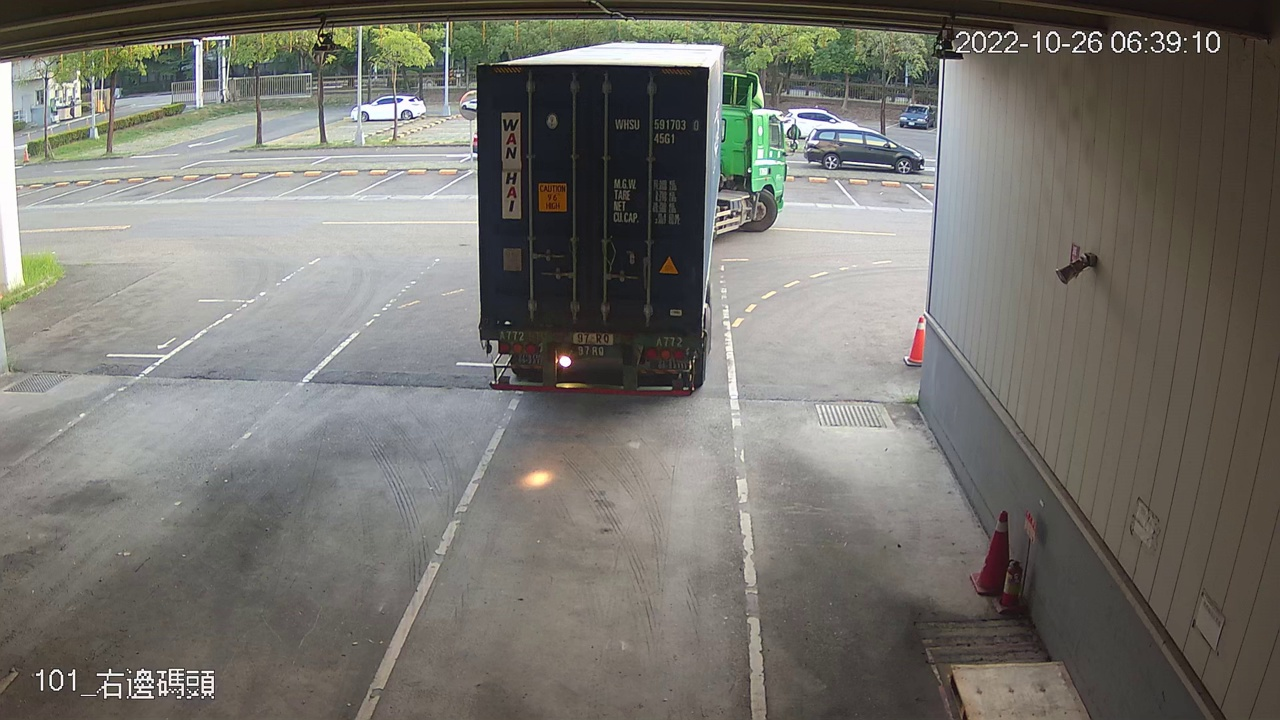container: (611, 113, 701, 148)
